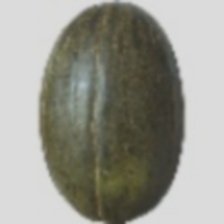honeydew: (24, 21, 215, 186)
